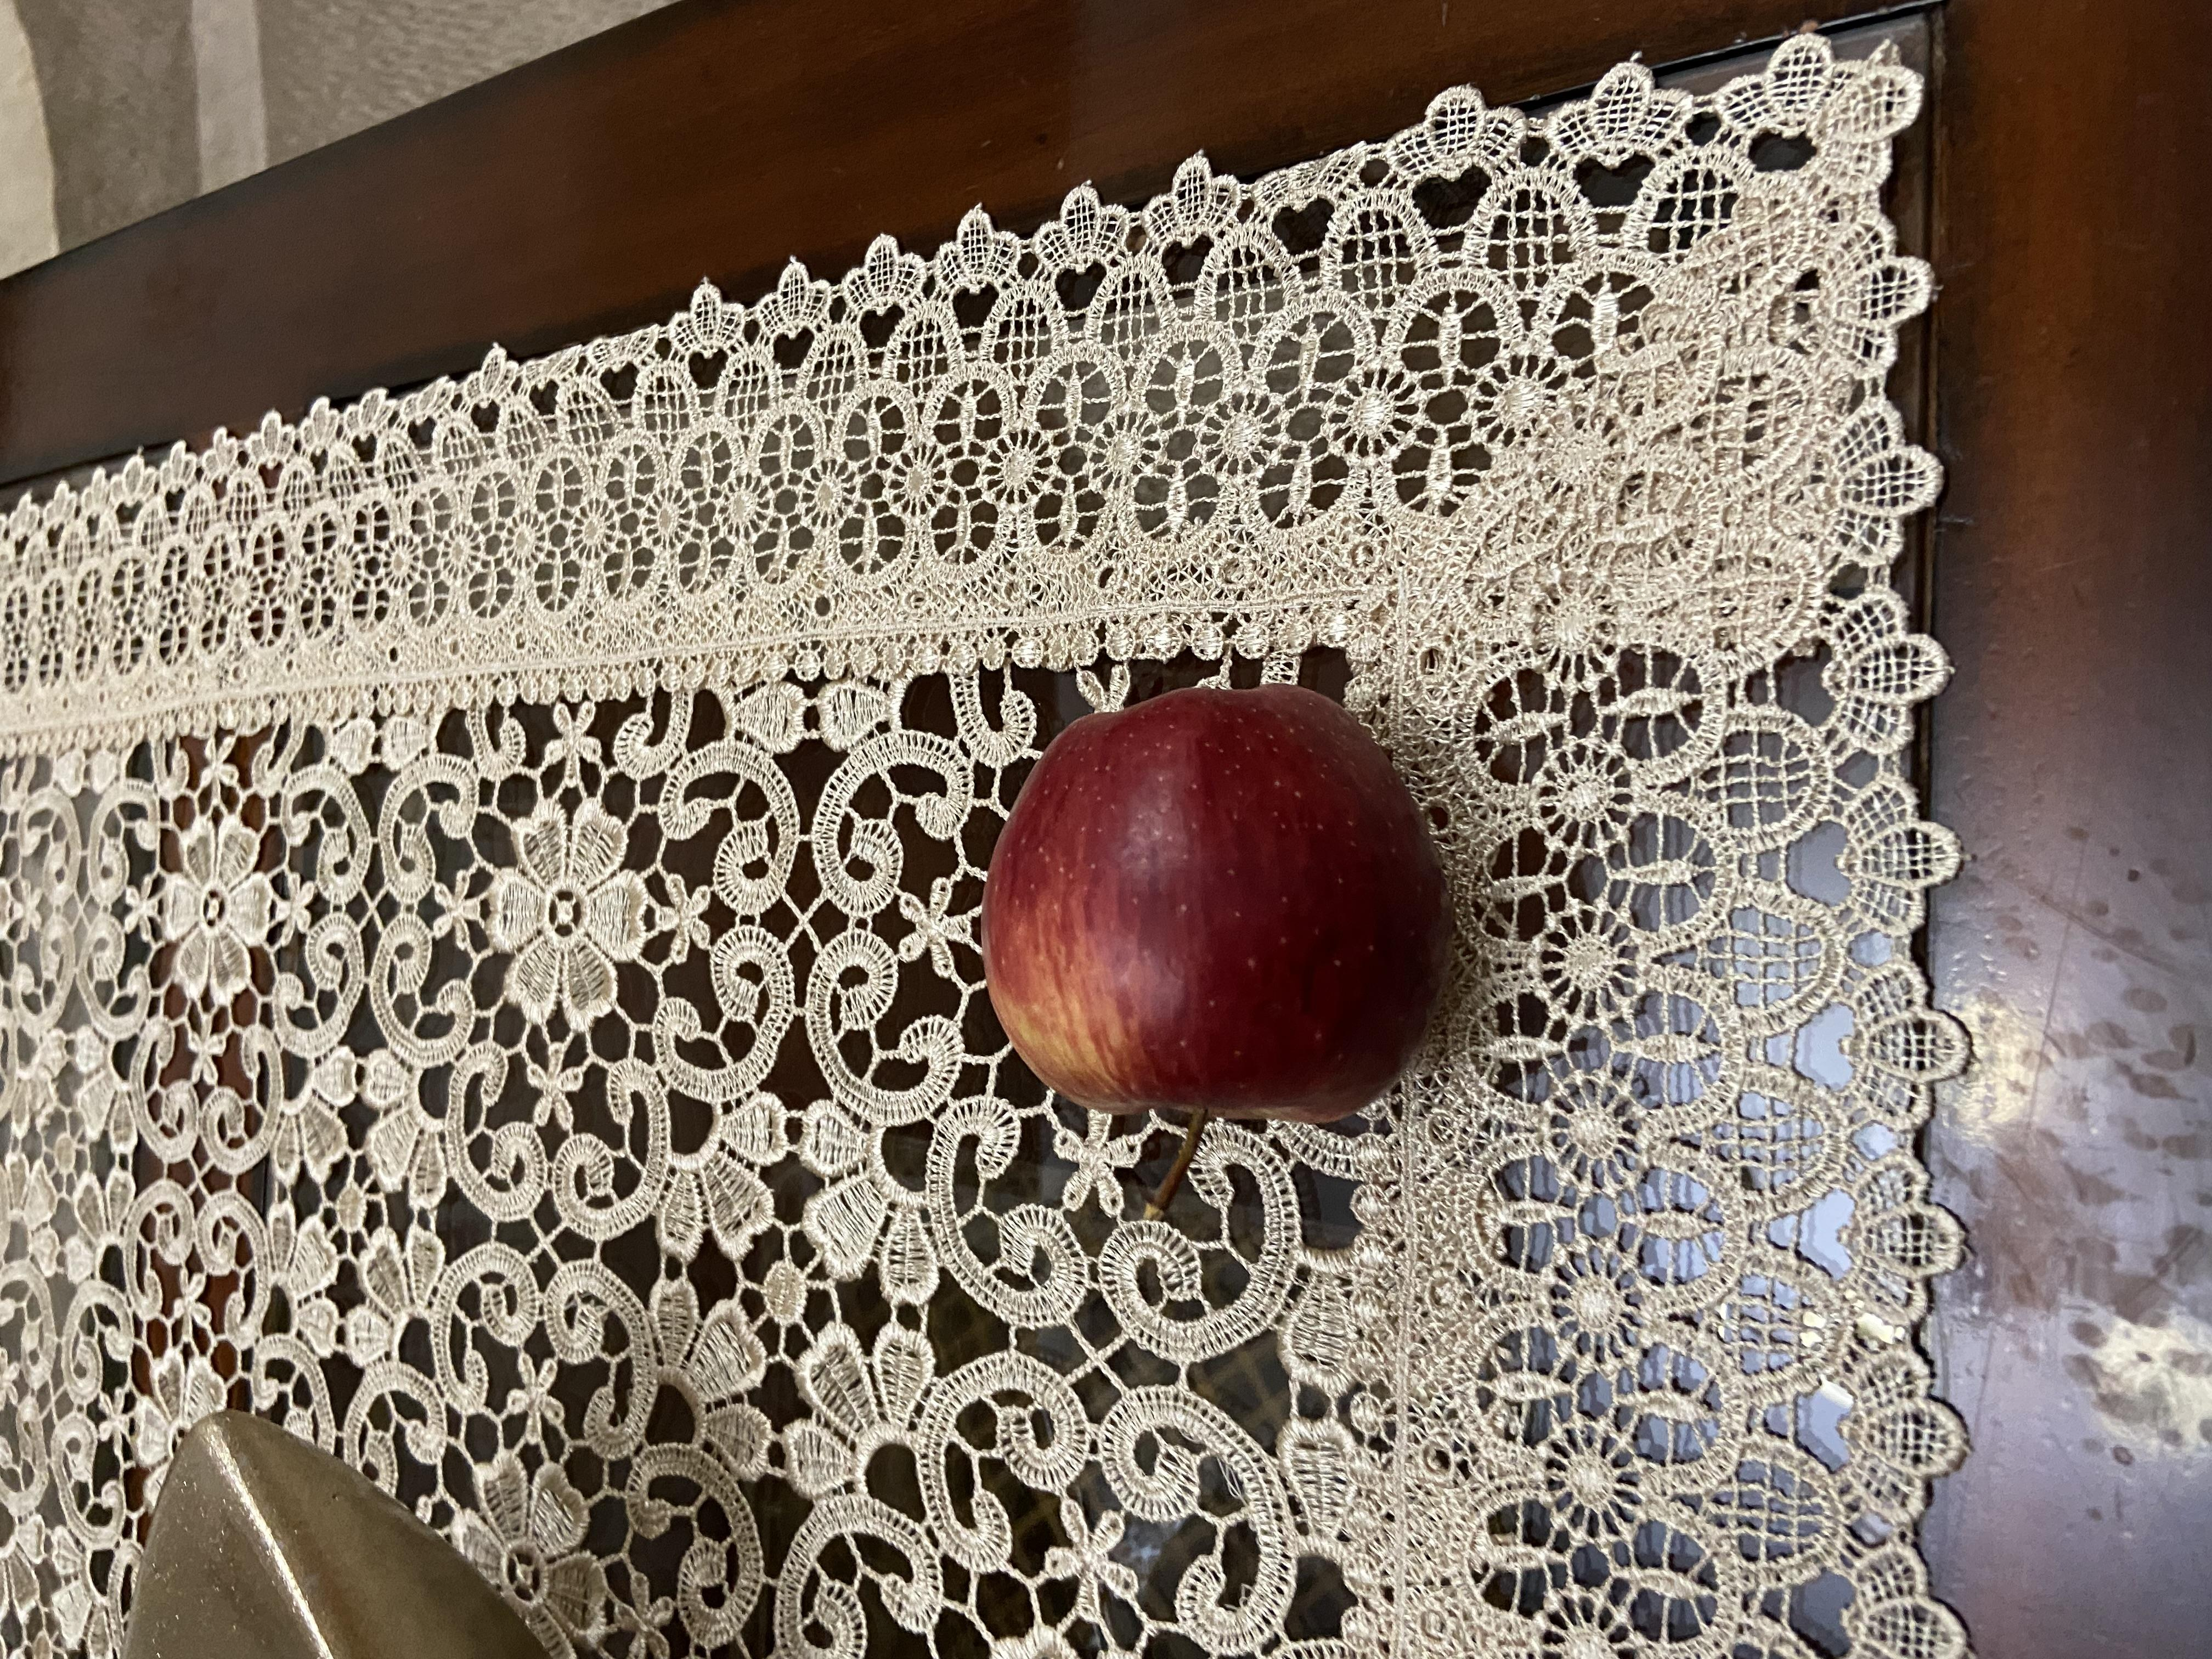Apple: (662, 732, 1325, 1086)
